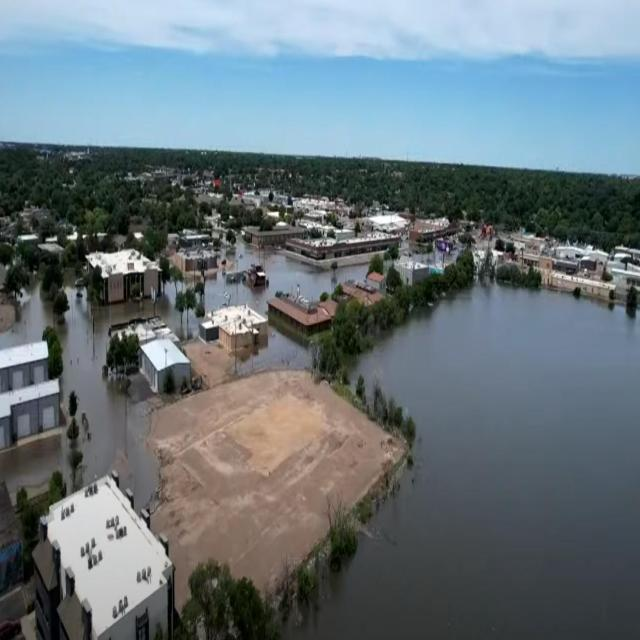flood: (282, 283, 640, 638), (56, 285, 158, 509), (205, 249, 367, 313), (0, 426, 71, 500), (0, 278, 50, 346), (254, 325, 310, 368), (154, 282, 179, 334)
house: (32, 471, 176, 640), (0, 334, 60, 455), (110, 318, 192, 399), (86, 249, 162, 308), (270, 292, 341, 347), (200, 305, 268, 358), (366, 267, 388, 298)
